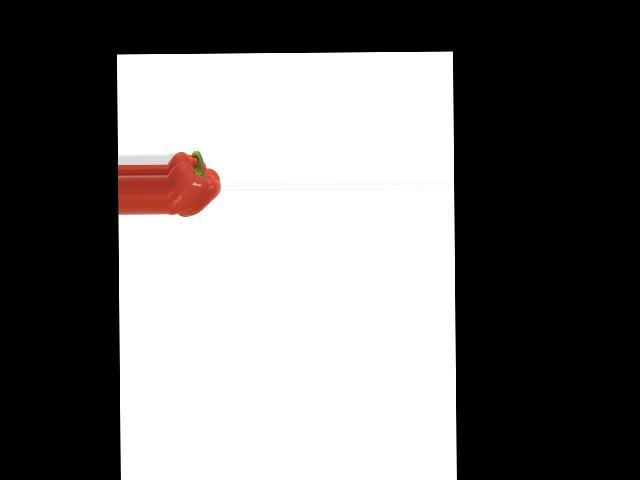bell_pepper: (166, 141, 221, 224)
